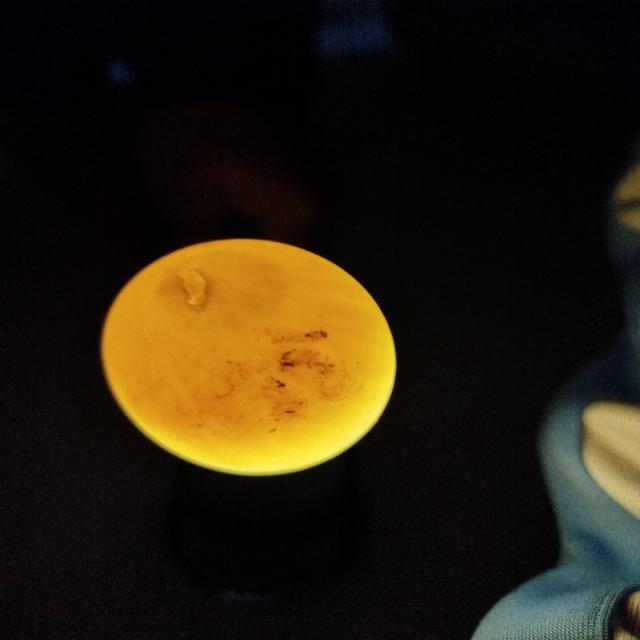Rachadura: (176, 267, 207, 309)
